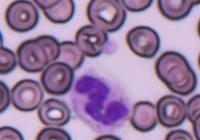N: (70, 72, 132, 136)
